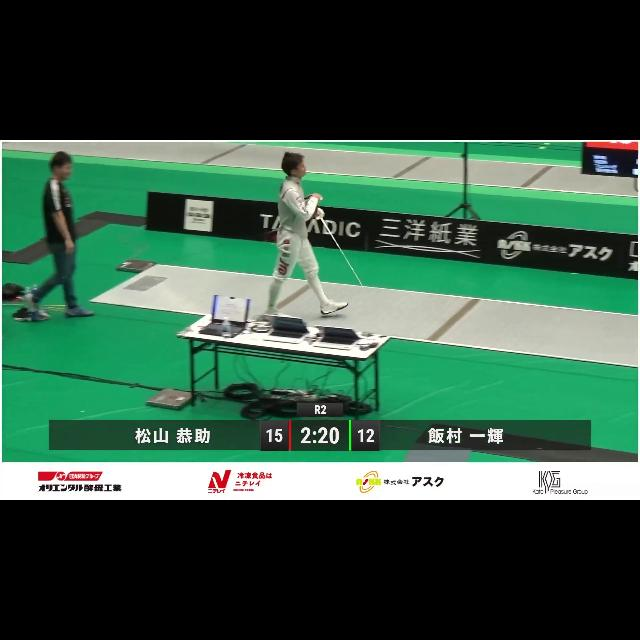blade: (312, 209, 368, 297)
